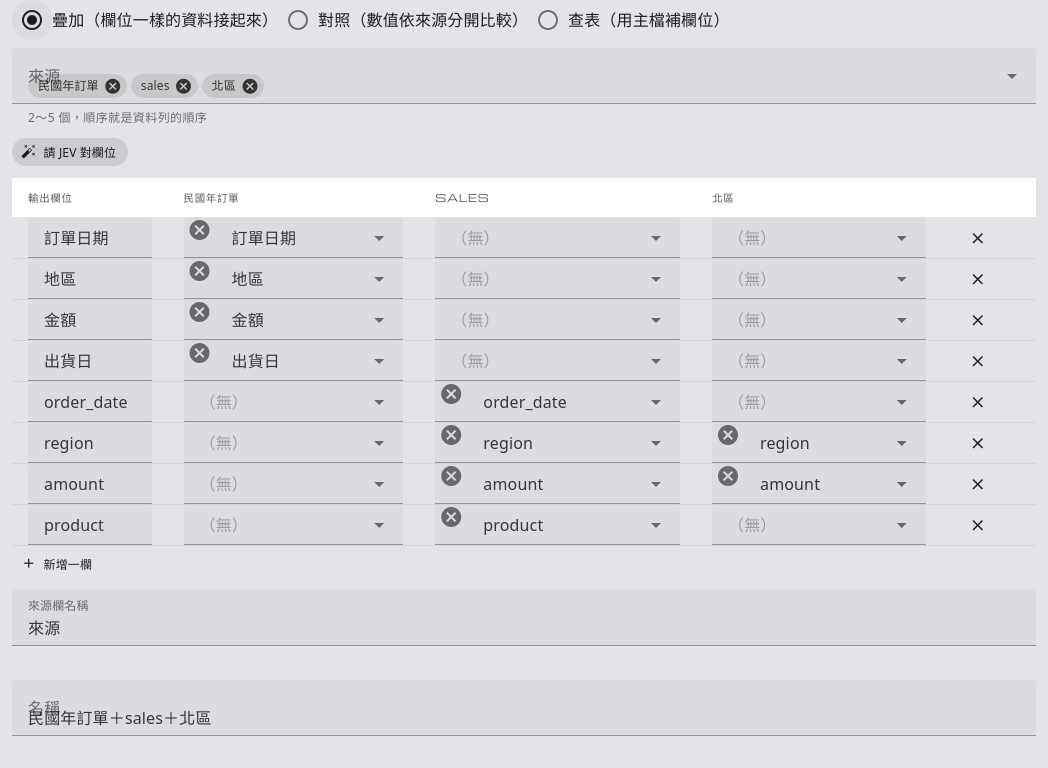
Test: MergeForm（JEV 對欄位） › with 3 sources, moves each matched cell and drops the shared row once it is empty
Step 1. Click the button "請 JEV 對欄位" → (70, 152), box [12, 138, 128, 166]
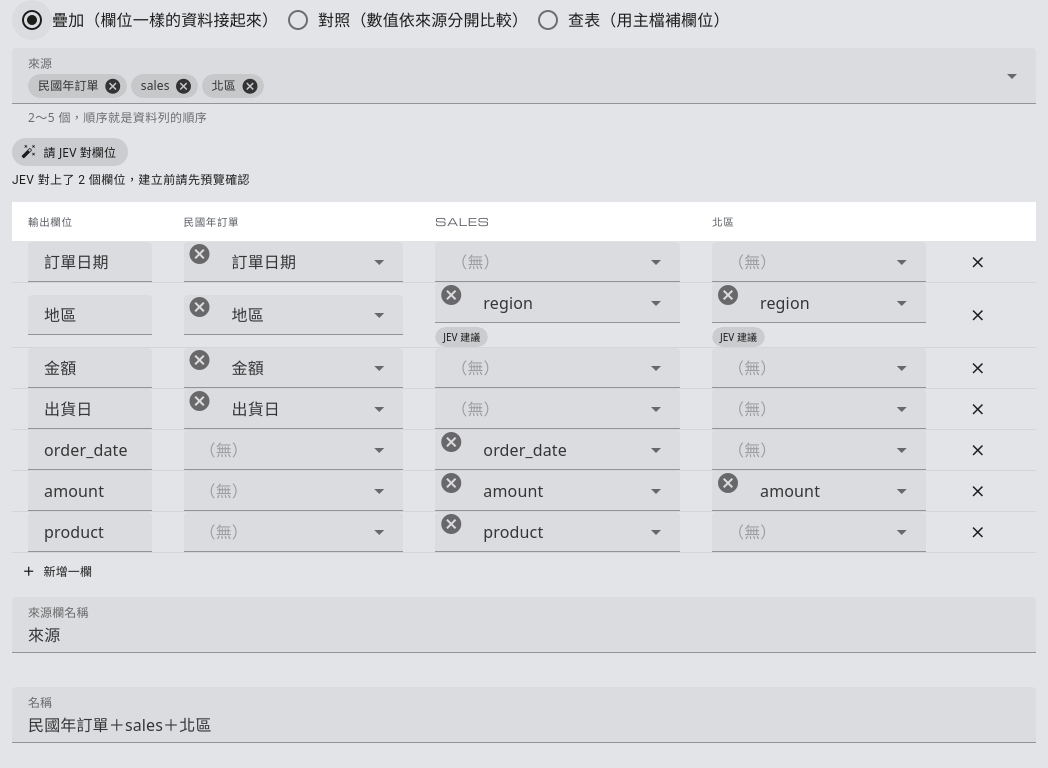
Expected: the 1st text "region" is shown, [483, 291, 533, 315]
Expected: the text "JEV 對上了 2 個欄位" is shown, [12, 173, 250, 187]
